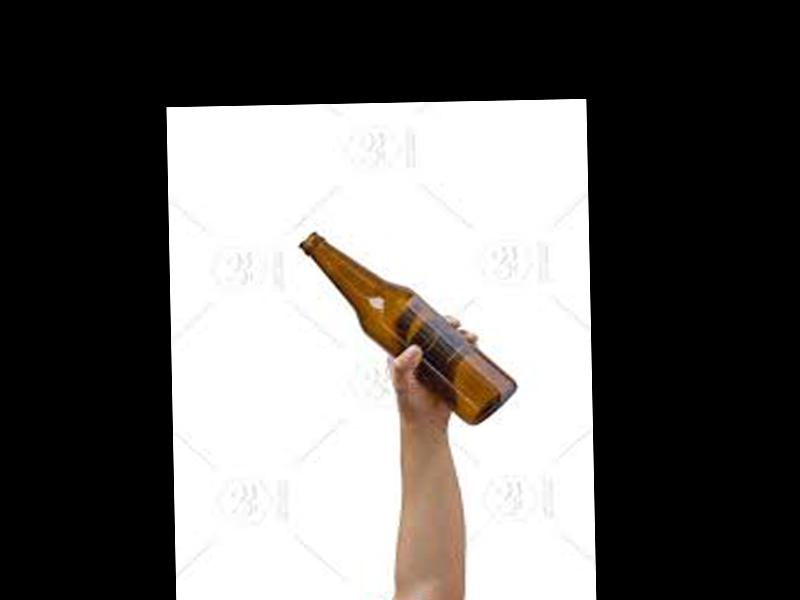Beer: (300, 228, 519, 428)
